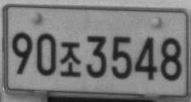0: (35, 32, 56, 77)
3: (86, 35, 107, 78)
4: (134, 36, 158, 80)
5: (110, 35, 133, 80)
8: (159, 36, 183, 81)
9: (11, 30, 33, 75)
조: (59, 41, 82, 77)
